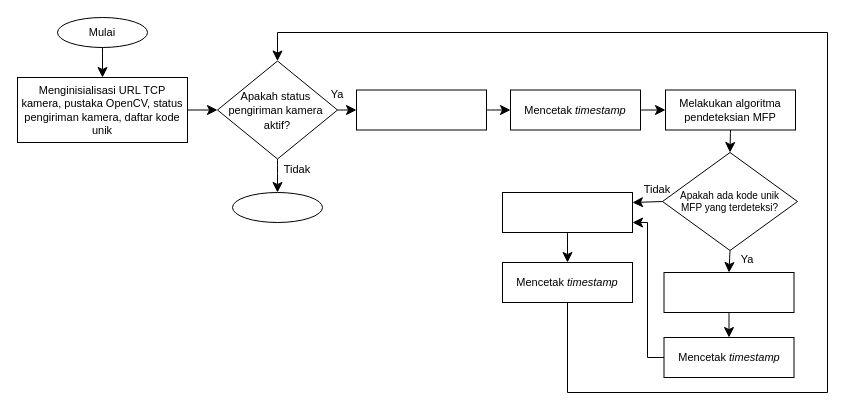
Some shapes in this 855 by 420 pixel diagram are drawn without their labels. Here are the shapes that lost their labels. From the top down, the centre of each, then its label:
At point 421,109: "Membaca bingkai hasil pengiriman kamera".
At point 277,207: "Selesai".
At point 567,212: "Menampilkan gambar".
At point 728,292: "Melakukan algoritma pemosisian".
